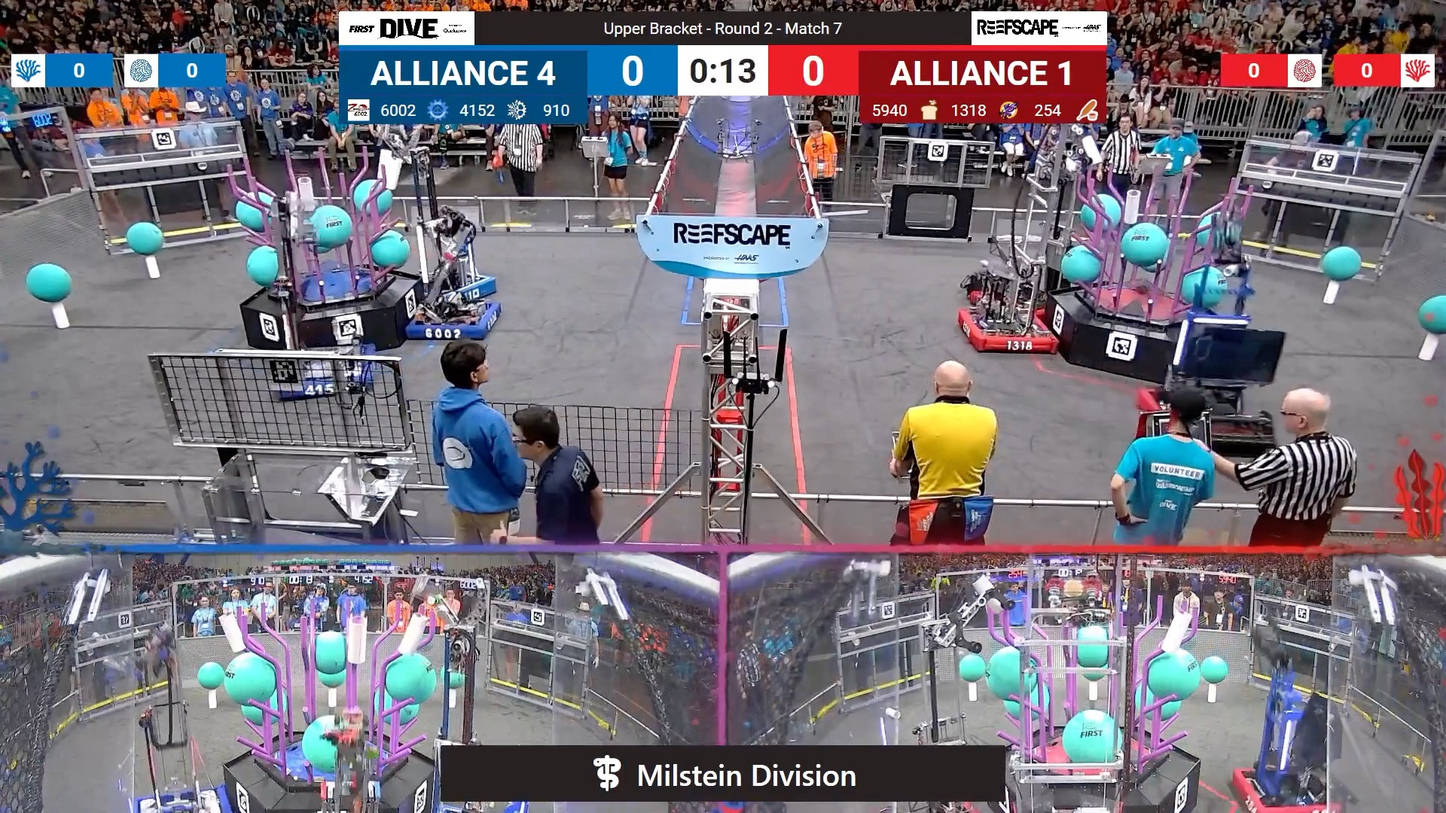bumpers: (1131, 387, 1276, 452), (958, 296, 1068, 358), (1221, 765, 1355, 813), (398, 291, 506, 342), (408, 265, 502, 301), (129, 783, 231, 813)
